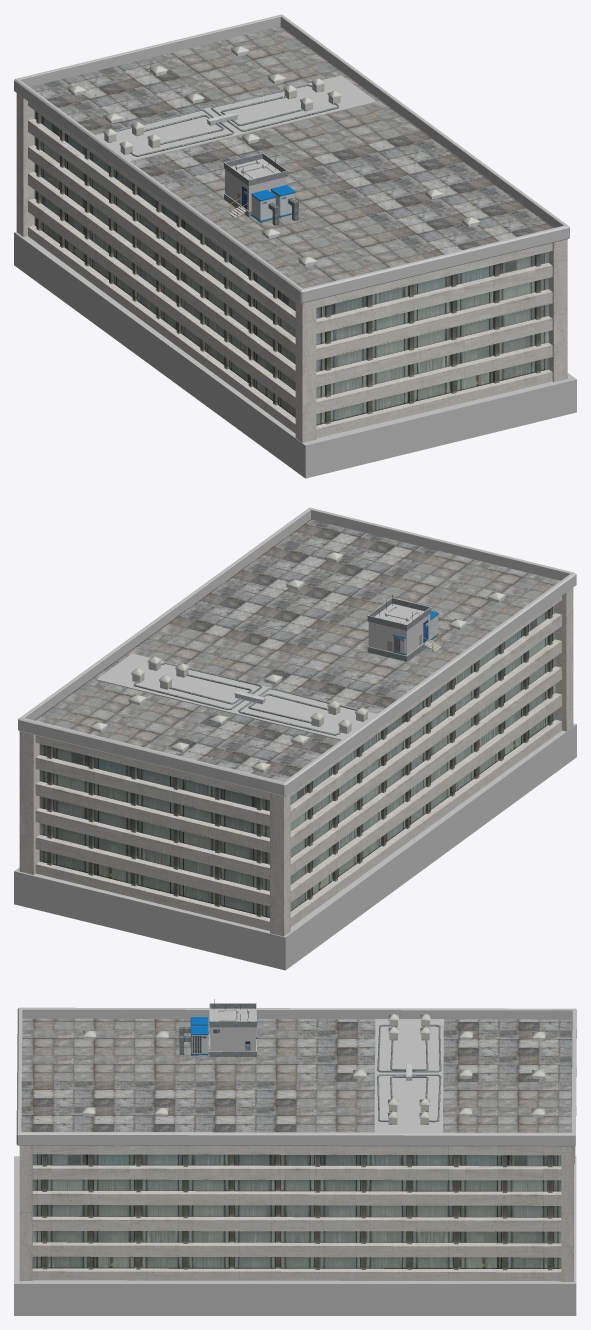
The model's file is u2EBuild3.gltf.
The picture shows the model from 3 angles, top to bottom: view 1: azimuth 30°, elevation 25°; view 2: azimuth 150°, elevation 25°; view 3: azimuth 270°, elevation 25°; orthographic projection. The views are drawn at different scales.
Visible parts, largest first — view 1: u2EBuild3; view 2: u2EBuild3; view 3: u2EBuild3.
Boxes of the visible parts, box(x1,y1,x2,y2) form: u2EBuild3: box(14, 14, 576, 478); u2EBuild3: box(14, 507, 576, 970); u2EBuild3: box(14, 999, 576, 1315).
Size of the model in its own units: 11.7 by 8.96 by 21.61.
